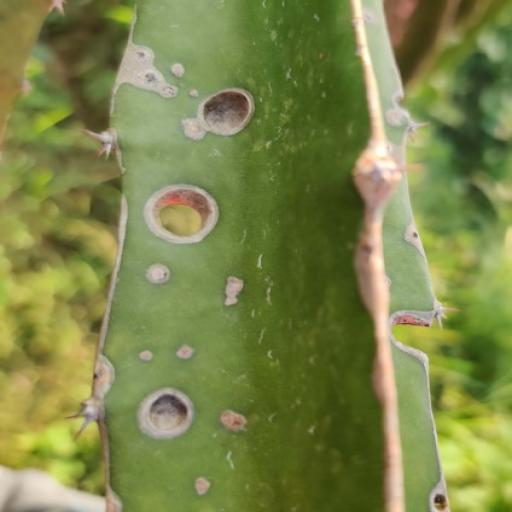stemcanker: (220, 399, 254, 441), (142, 260, 178, 292), (222, 266, 244, 314), (186, 475, 222, 504), (136, 340, 158, 370), (173, 345, 199, 364), (170, 59, 190, 81), (186, 86, 206, 100)
